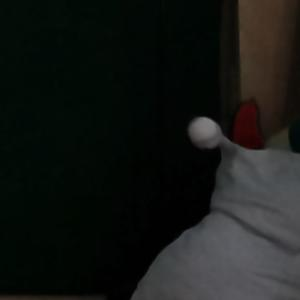ball: (187, 115, 224, 153)
